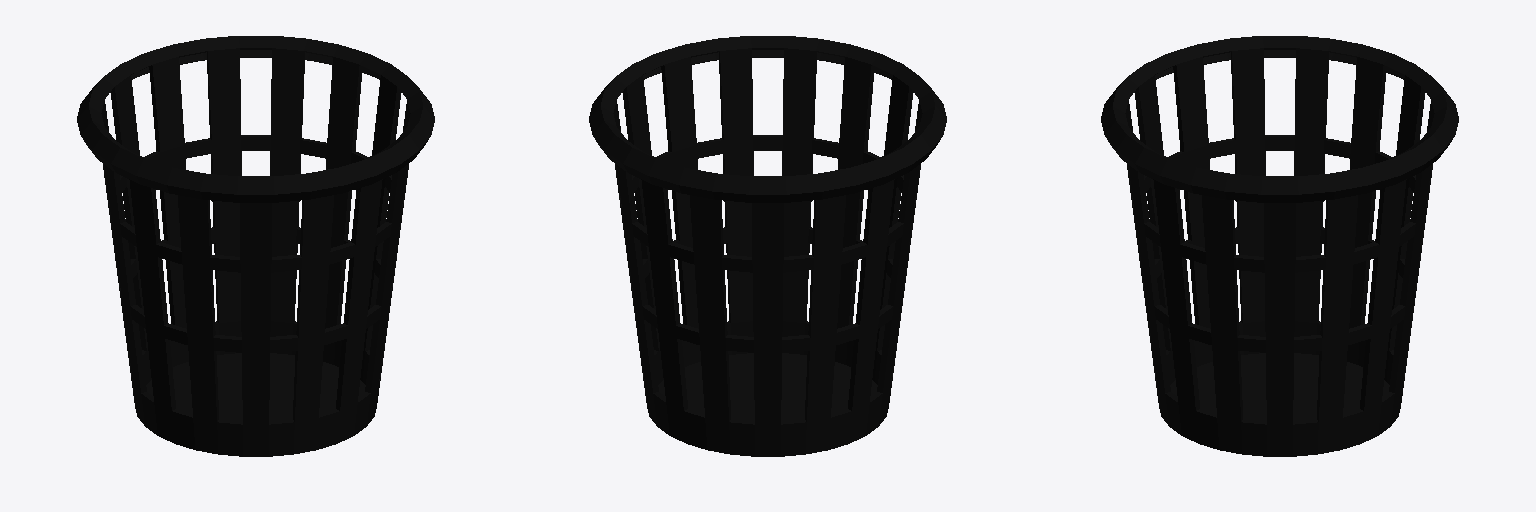
Rendered from vedro.obj.
The picture shows the model from 3 angles: view 1: azimuth 30°, elevation 25°; view 2: azimuth 150°, elevation 25°; view 3: azimuth 270°, elevation 25°; orthographic projection.
Visible parts, largest first — view 1: Cylinder; view 2: Cylinder; view 3: Cylinder.
Part boxes in pixels (left/top/right/bottom): Cylinder: left=77, top=36, right=434, bottom=456; Cylinder: left=589, top=36, right=946, bottom=456; Cylinder: left=1101, top=36, right=1458, bottom=456.
Bounding box in the file's own units: 2.23 × 2.07 × 2.25.